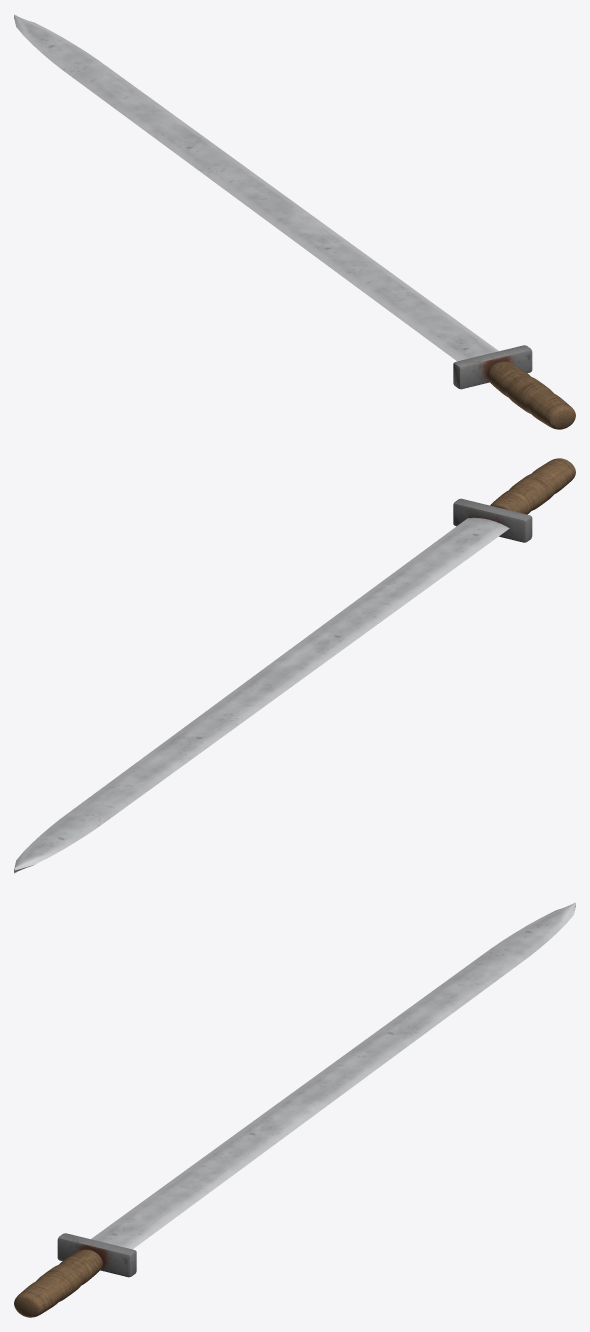
The model's file is alan_long_sword.glb.
3 renders of one model, top to bottom at view 1: azimuth 30°, elevation 25°; view 2: azimuth 150°, elevation 25°; view 3: azimuth 330°, elevation 25°, orthographic.
Visible parts, largest first — view 1: alan_long_sword; view 2: alan_long_sword; view 3: alan_long_sword.
Boxes of the visible parts, bbox=[...] form: alan_long_sword: bbox=[14, 14, 575, 429]; alan_long_sword: bbox=[14, 458, 575, 873]; alan_long_sword: bbox=[14, 902, 575, 1317].
Size of the model in its own units: 0.0774 by 0.0258 by 0.9959.
Materials: 1 (1 with a texture image).
